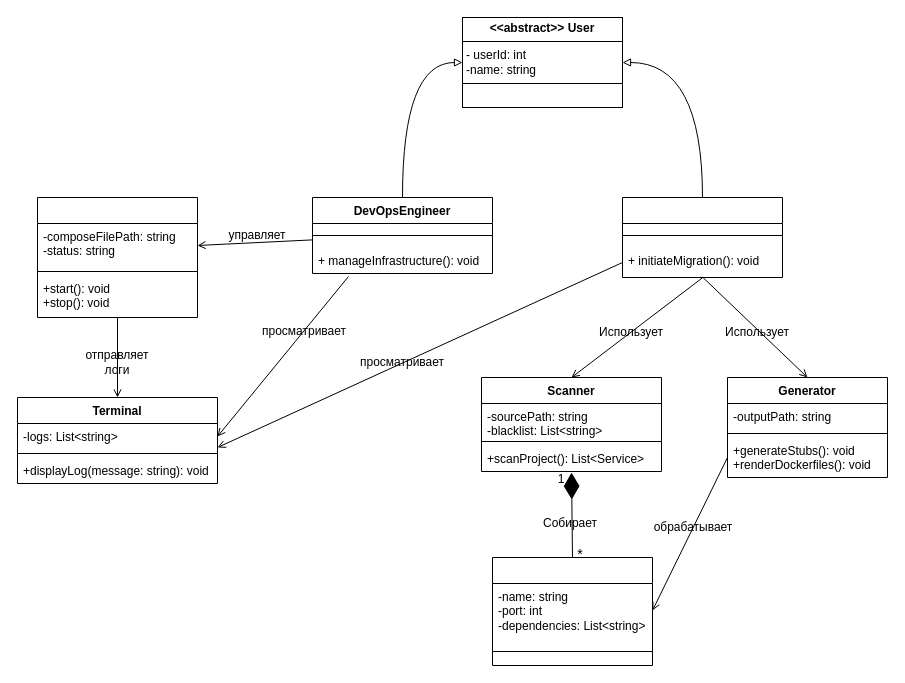
Some shapes in this 905 by 683 pixel diagram are drawn without their labels. The box of each missing label's shape, as (x1, y1, x2, y2) in pixels:
Developer: (622, 196, 782, 278)
DockerManager: (36, 196, 198, 318)
Service: (492, 556, 652, 666)
